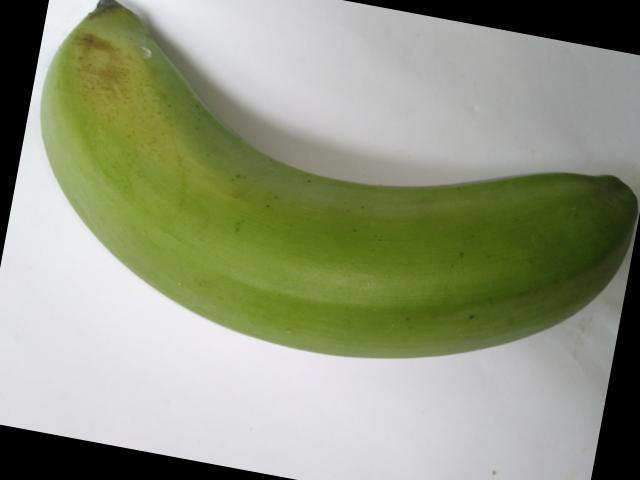freshunripe: (18, 31, 638, 371)
